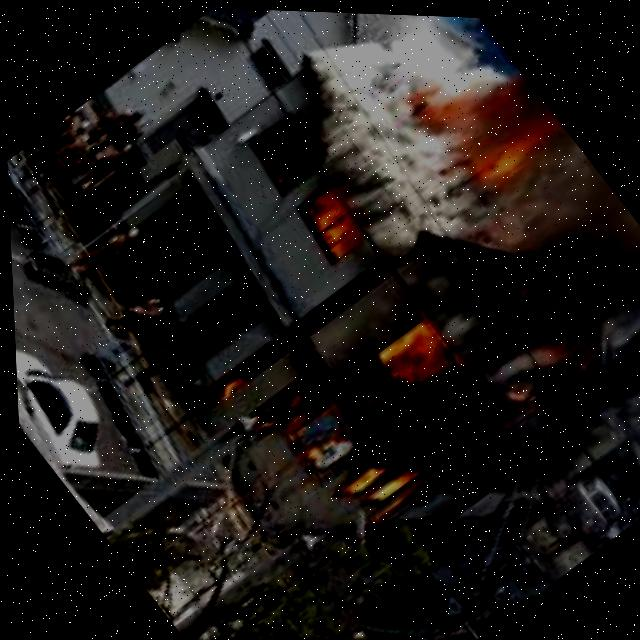Fire: (181, 237, 545, 591), (287, 173, 376, 263)
Smoke: (261, 8, 640, 412)
